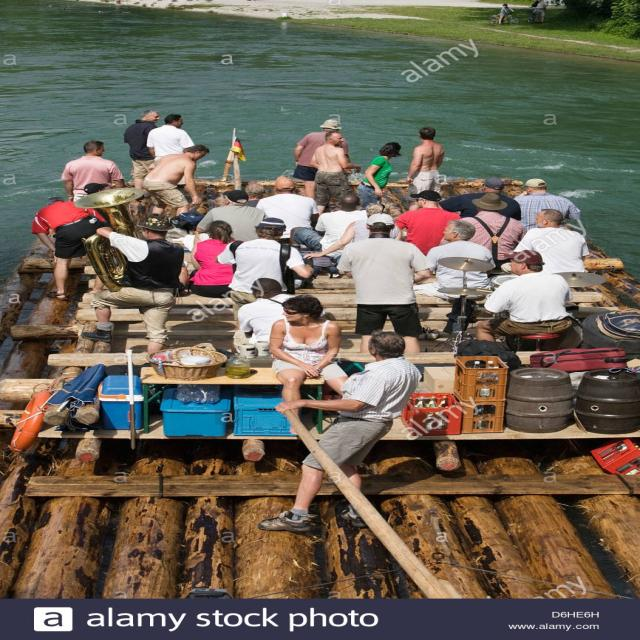body: (255, 330, 425, 533), (79, 213, 187, 355), (336, 211, 433, 353), (263, 293, 353, 441), (213, 216, 314, 332), (475, 249, 572, 350), (31, 196, 110, 301), (438, 191, 526, 274), (412, 217, 503, 293), (302, 202, 404, 260), (229, 277, 297, 356), (139, 143, 211, 217), (288, 193, 368, 259), (513, 208, 590, 275), (292, 119, 352, 198), (392, 190, 462, 257), (188, 219, 246, 299), (310, 130, 362, 214), (256, 176, 320, 244), (60, 139, 126, 201), (194, 189, 270, 242), (438, 176, 523, 222), (510, 177, 582, 230), (354, 140, 404, 210), (405, 126, 445, 211), (123, 109, 162, 191), (145, 113, 196, 164), (525, 0, 557, 26), (76, 179, 113, 199), (244, 182, 268, 208), (497, 3, 515, 25)
